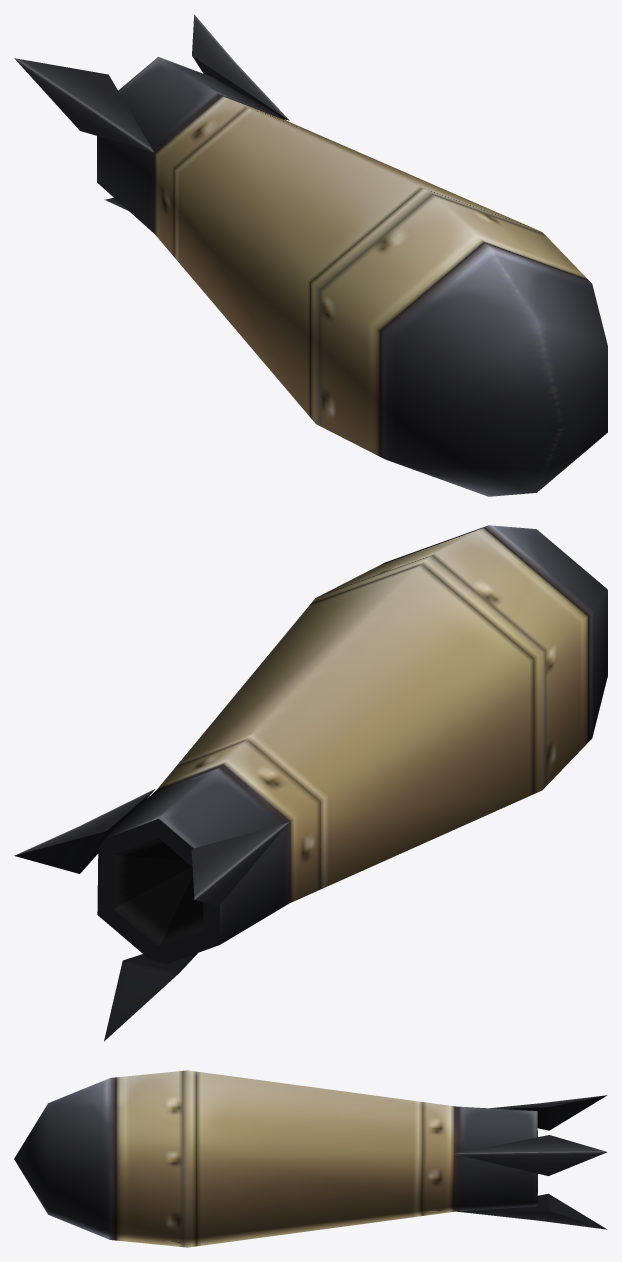
Rendered from Chariot03_paodan.FBX.
3 renders of one model, top to bottom at view 1: azimuth 30°, elevation 25°; view 2: azimuth 150°, elevation 25°; view 3: azimuth 270°, elevation 25°, orthographic. The views are drawn at different scales.
Visible parts, largest first — view 1: Chariot03_paodan; view 2: Chariot03_paodan; view 3: Chariot03_paodan.
Boxes of the visible parts, x1=… form: Chariot03_paodan: x1=14, y1=14, x2=607, y2=496; Chariot03_paodan: x1=14, y1=525, x2=607, y2=1041; Chariot03_paodan: x1=14, y1=1070, x2=607, y2=1247.
Bounding box in the file's own units: 0.8792 × 1.02 × 3.08.
